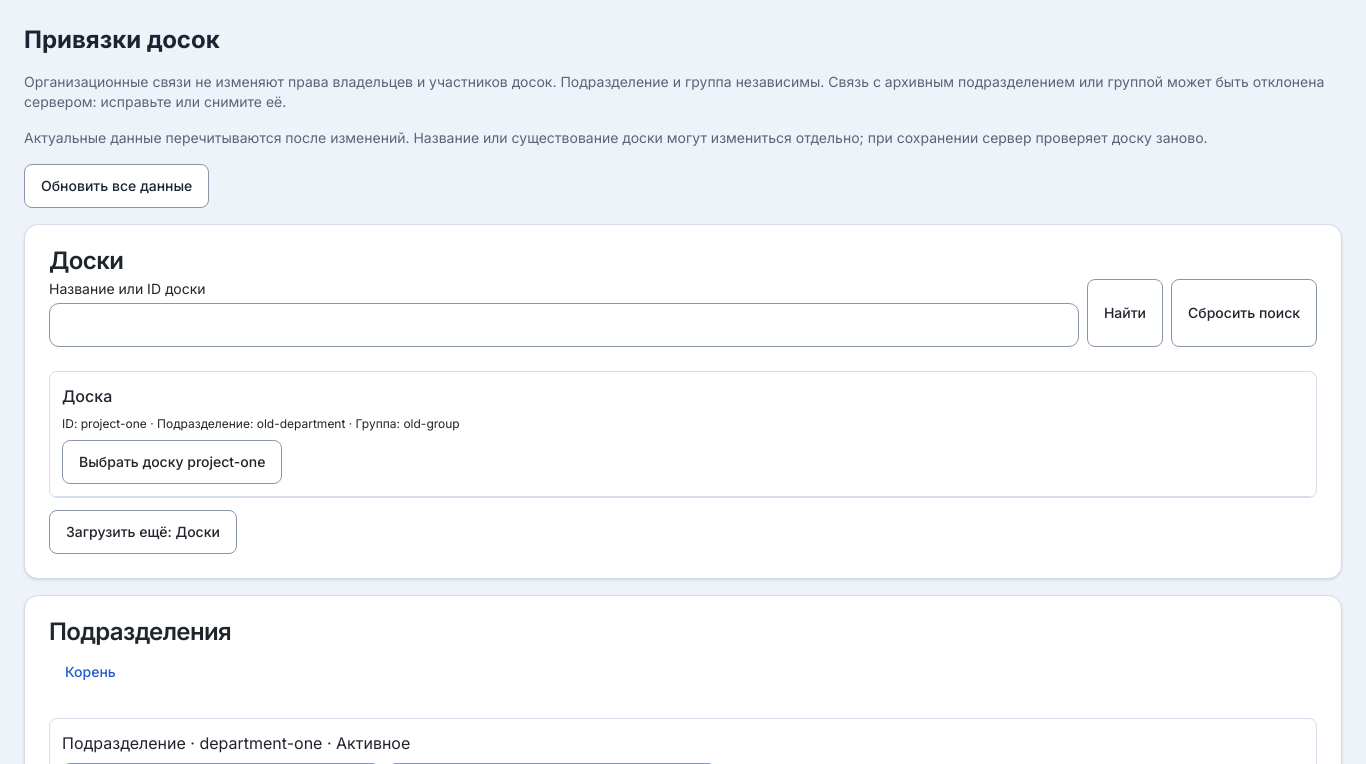
binding page and selectors › handles stale cursor409 by hiding previous pages
What coordinates should you click on to do the following:
click the button "Загрузить ещё: Доски"
I would click on:
 (143, 532)
Its box is [49,510,237,554].
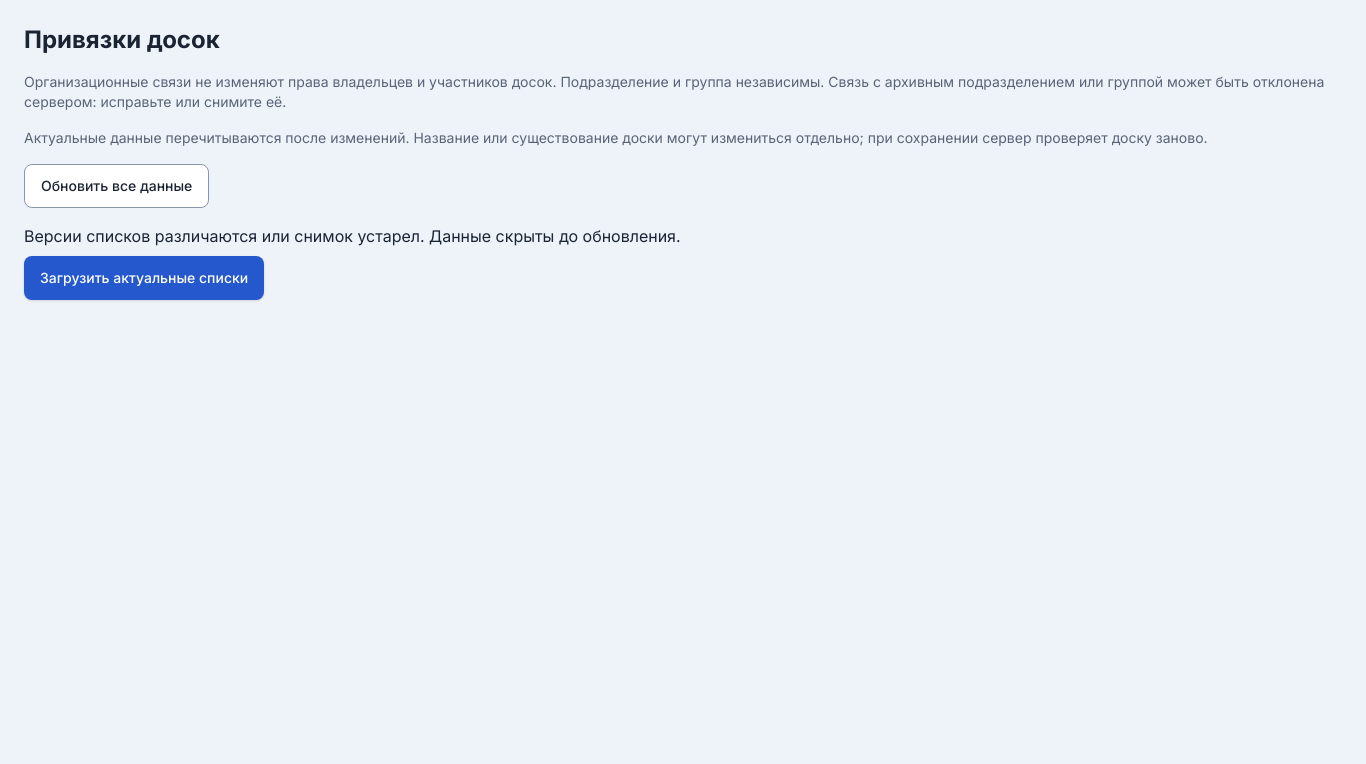
Result: the text "Версии списков различаются" is shown at [24,226,681,246]
Result: the button "Выбрать доску project-one" is gone
